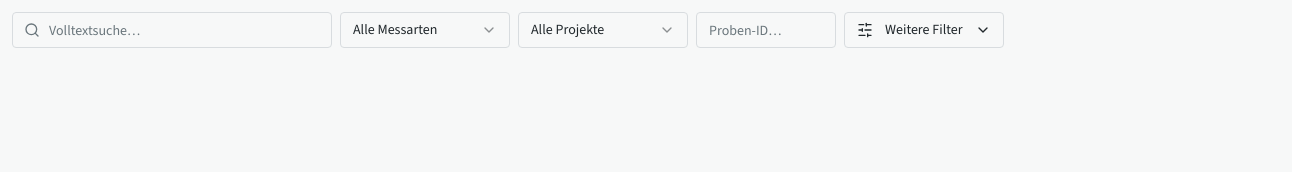
Test: ResultsFilterBar › zeigt Suche, Messart, Projekt und Proben-ID immer an, weitere Filter erst nach Klick
The image size is (1292, 172).
Expected: the field labelled "Volltextsuche" is shown, top-left (12, 12), bottom-right (332, 48)
Expected: the dropdown labelled "Messart" is shown, top-left (340, 12), bottom-right (510, 48)
Click the button "Weitere Filter" at [924, 30], box top-left (844, 12), bottom-right (1004, 48)
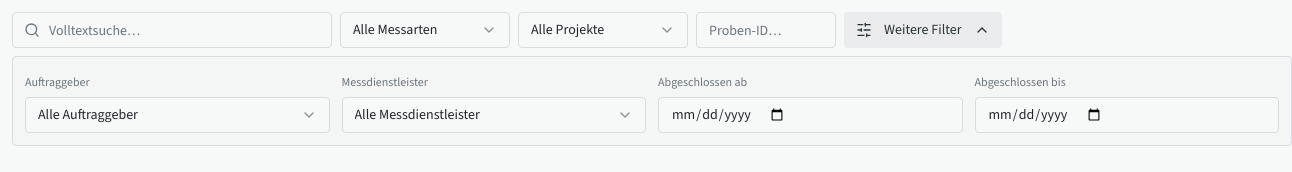
Expected: the text "Abgeschlossen ab" is shown, top-left (658, 74), bottom-right (747, 90)
Expected: the text "Auftraggeber" is shown, top-left (25, 74), bottom-right (90, 90)
